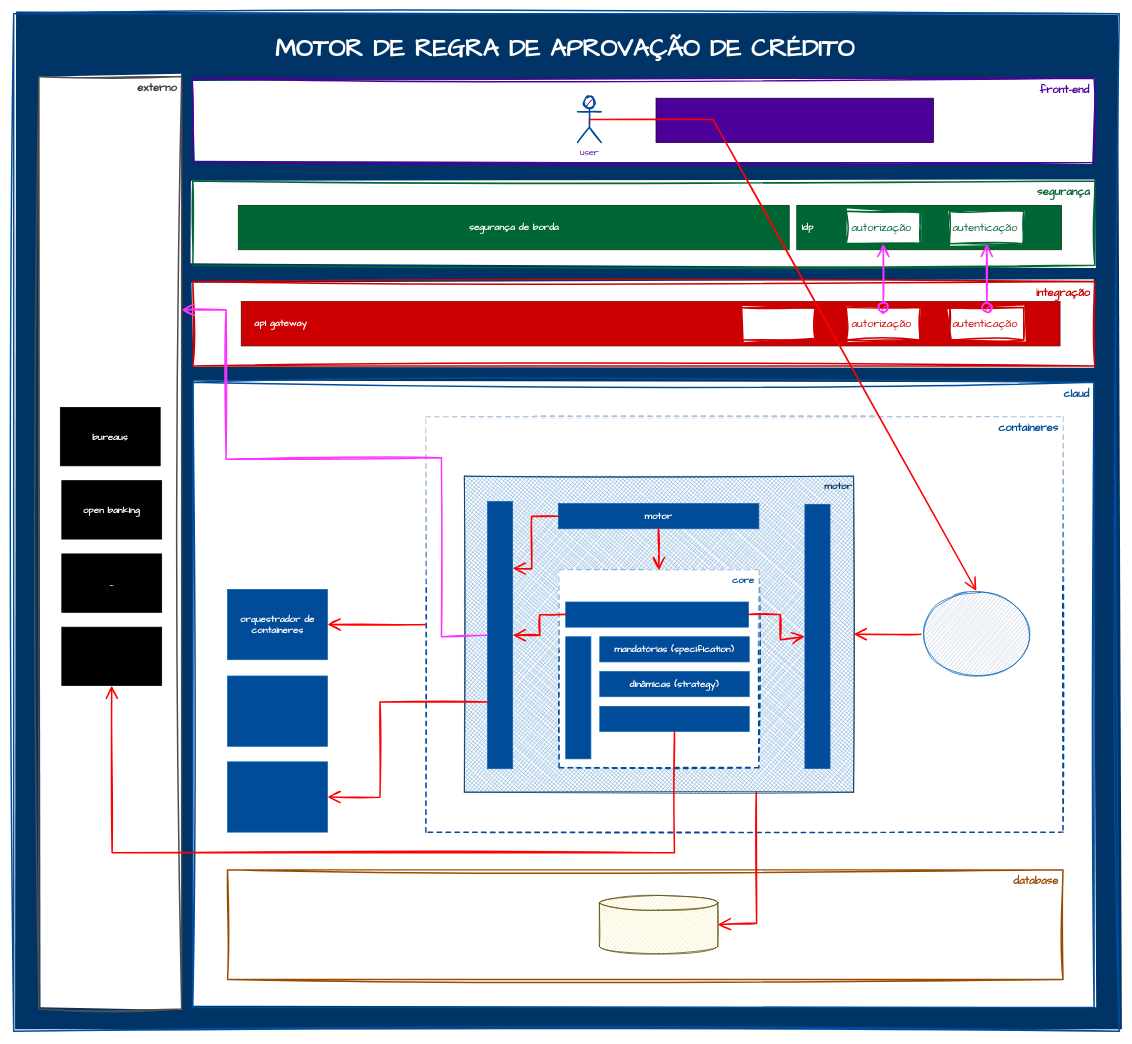
Some shapes in this 1132 by 1044 pixel diagram are drawn without their labels. The shapes that lost their labels are listed below. From the top down, each one's centre as x and y in pixels, then its label:
(794,120): app
(777,323): cache
(657,614): gerenciar cenário
(976,633): API
(500,635): adapter
(817,636): cenário
(111,656): ia
(277,710): apm
(578,697): chain of responsibility
(674,718): requisição para ia
(277,796): logs
(658,924): database <<detail>>
